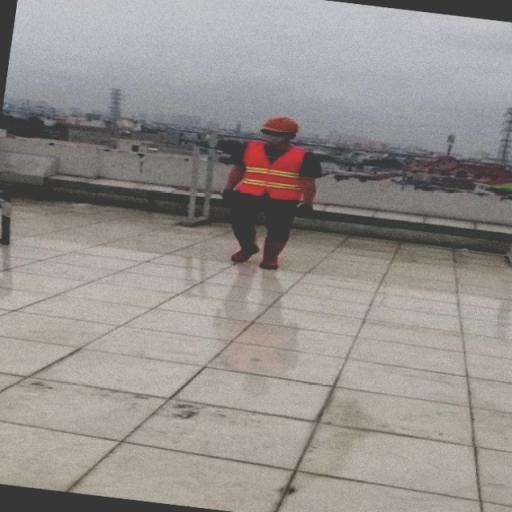Person: (190, 78, 331, 290)
boots: (262, 232, 288, 274), (231, 236, 261, 268)
helmet: (251, 109, 302, 136)
vest: (228, 143, 310, 203)
